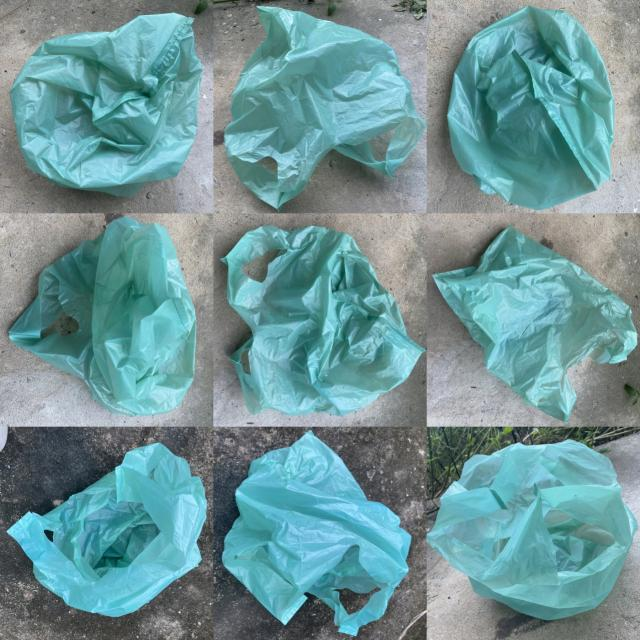Single-layer Plastic: (225, 6, 426, 211), (434, 226, 638, 422), (222, 431, 411, 634), (222, 226, 424, 415), (428, 440, 636, 620), (9, 218, 196, 416), (10, 12, 202, 197), (8, 444, 206, 616), (448, 6, 615, 209)
